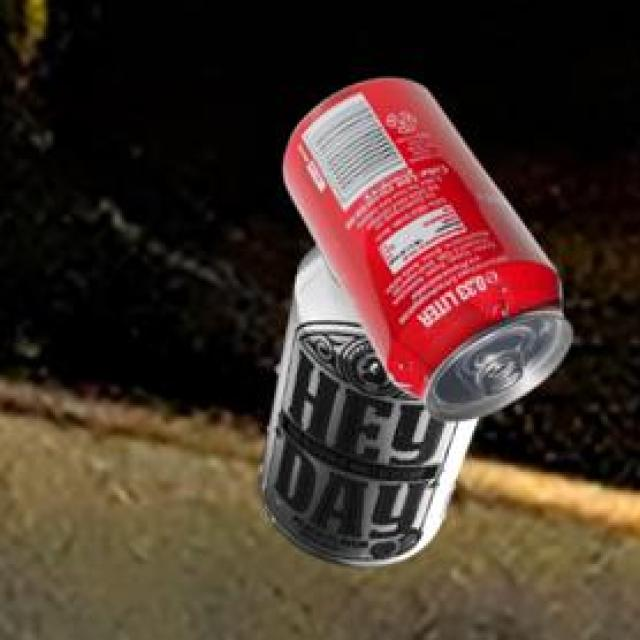logam: (289, 82, 577, 425), (264, 247, 482, 570)
